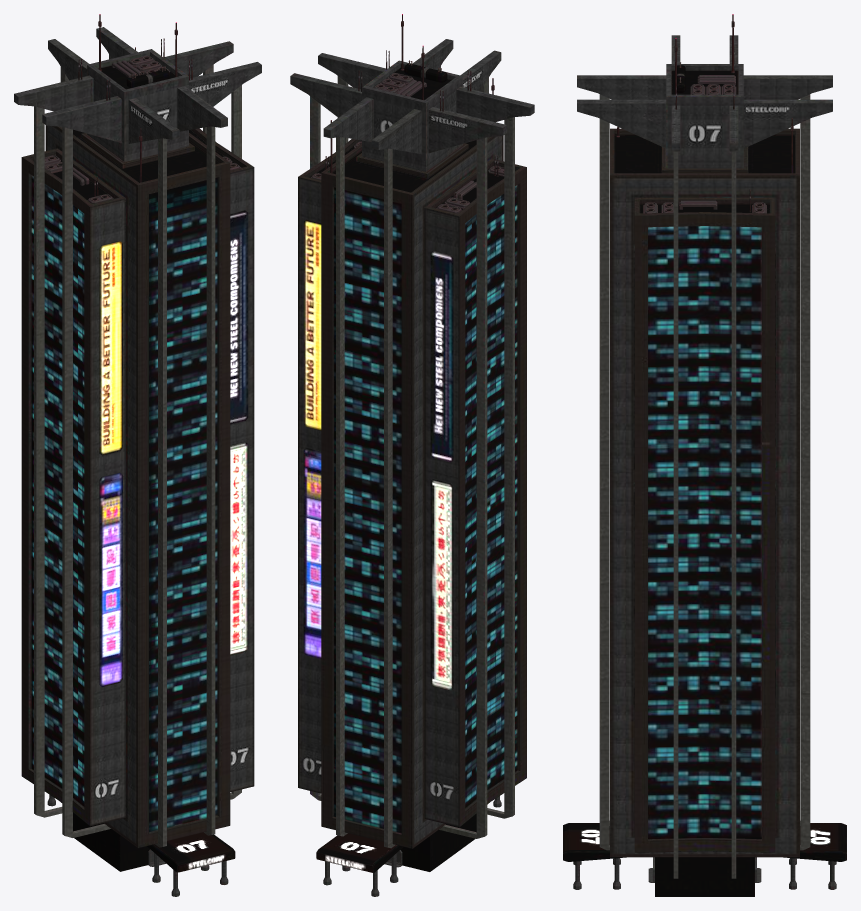
Rendered from sci-fi-corporate-building.glb.
The picture shows the model from 3 angles, left to right: view 1: azimuth 30°, elevation 25°; view 2: azimuth 150°, elevation 25°; view 3: azimuth 270°, elevation 25°; orthographic projection. The views are drawn at different scales.
Parts seen in each view (by area): view 1: sci-fi-corporate-building; view 2: sci-fi-corporate-building; view 3: sci-fi-corporate-building.
Part boxes in pixels (<box>): sci-fi-corporate-building: <box>14,14,261,896</box>; sci-fi-corporate-building: <box>290,14,534,896</box>; sci-fi-corporate-building: <box>563,14,846,896</box>.
Size of the model in its own units: 91.62 by 335 by 102.
Materials: 2 (1 with a texture image).
